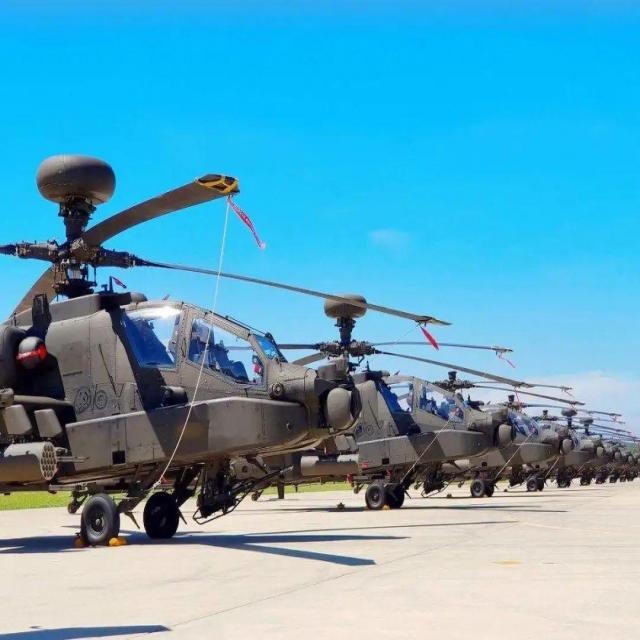MIL_HELO: (14, 145, 358, 549)
